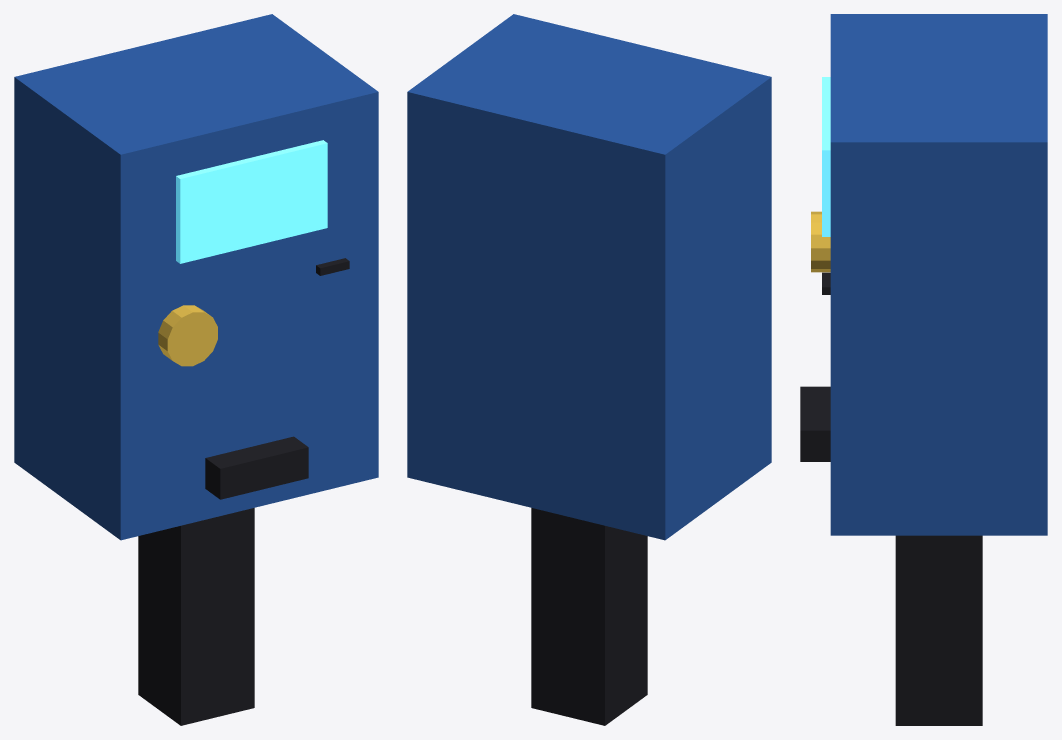
Rendered from token_machine.glb.
3 views of the same model, side by side, from view 1: azimuth 30°, elevation 25°; view 2: azimuth 150°, elevation 25°; view 3: azimuth 270°, elevation 25° (orthographic). The views are drawn at different scales.
Parts seen in each view (by area): view 1: body_token_blue, post_token_dark, screen_token_screen, tray_token_dark, premium_token_gold; view 2: body_token_blue, post_token_dark; view 3: body_token_blue, post_token_dark, tray_token_dark, screen_token_screen, premium_token_gold.
Boxes of the visible parts, x1,y1,x2,y2 form: body_token_blue: (14,14,378,540); post_token_dark: (138,508,254,725); screen_token_screen: (176,140,327,263); tray_token_dark: (205,436,308,499); premium_token_gold: (158,305,217,366); body_token_blue: (407,14,771,540); post_token_dark: (531,508,647,725); body_token_blue: (830,14,1047,535); post_token_dark: (895,535,982,725); tray_token_dark: (800,386,830,461); screen_token_screen: (822,77,830,236); premium_token_gold: (811,211,830,272).
Size of the model in its own units: 0.7 by 1.6 by 0.57.
